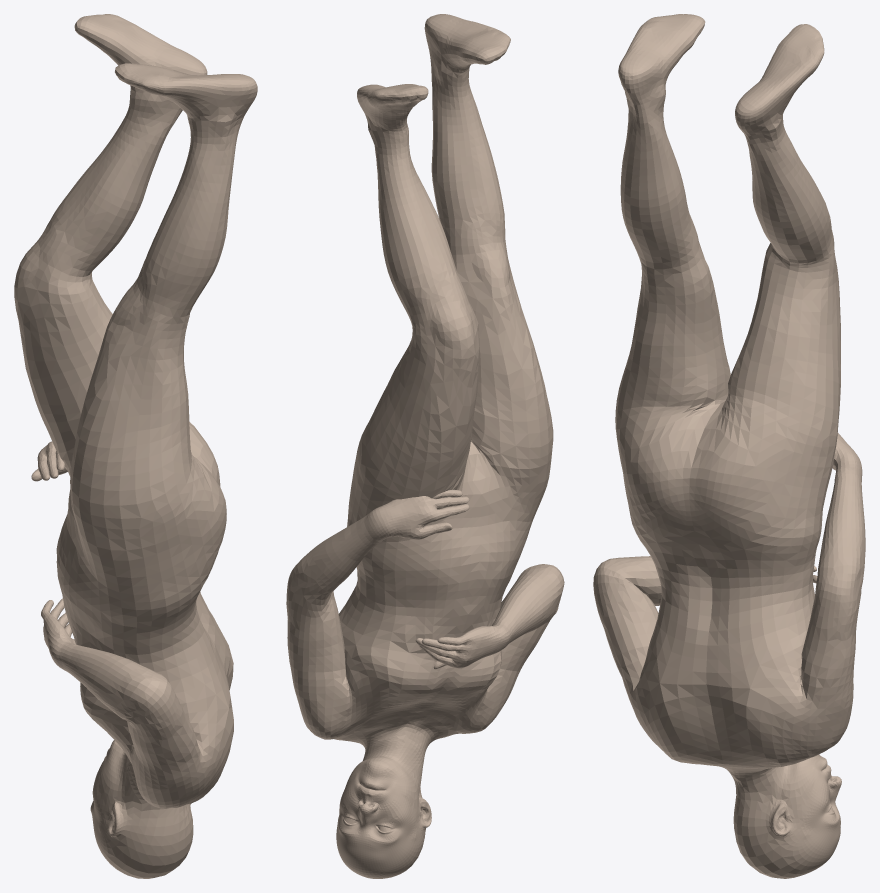
File: avatar_pregnant.glb
3 renders of one model, left to right at view 1: azimuth 30°, elevation 25°; view 2: azimuth 150°, elevation 25°; view 3: azimuth 270°, elevation 25°, orthographic. The views are drawn at different scales.
Parts seen in each view (by area): view 1: world; view 2: world; view 3: world.
Part boxes in pixels (<box>): world: <box>14,14,257,878</box>; world: <box>286,14,564,878</box>; world: <box>593,14,865,878</box>.
Size of the model in its own units: 0.3787 by 1.57 by 0.4693.
